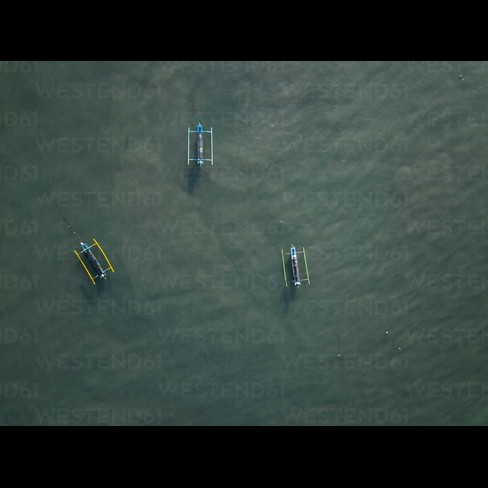boat: (70, 230, 117, 289), (179, 116, 221, 172), (279, 237, 313, 294)
